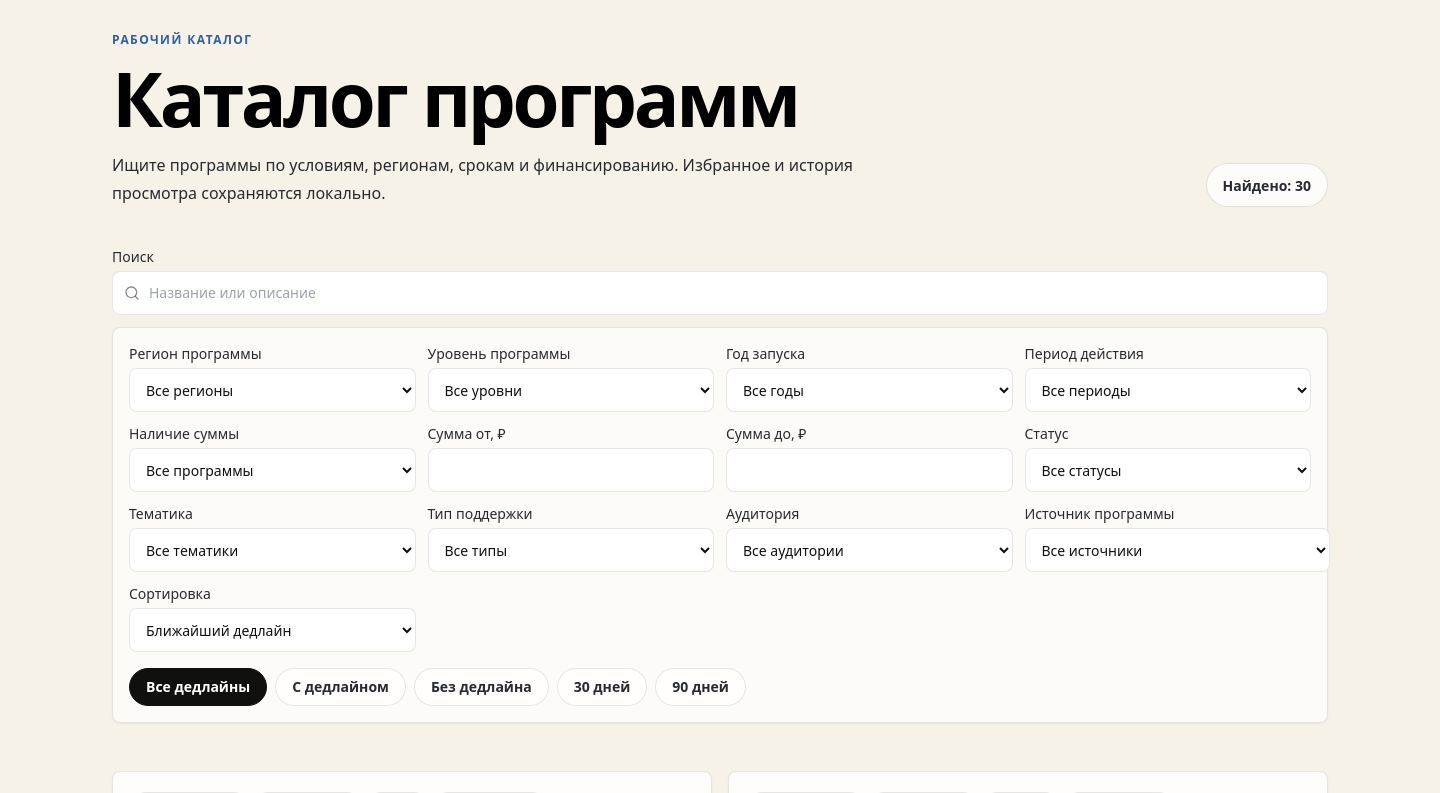
Test: ProgramsTab › shows empty state after filters with no results
This screenshot has width=1440, height=793.
Type "несуществующая программа" into the field labelled "Поиск". click: [720, 294]
box: x1=112 y1=272 x2=1328 y2=316
(page scrolled)
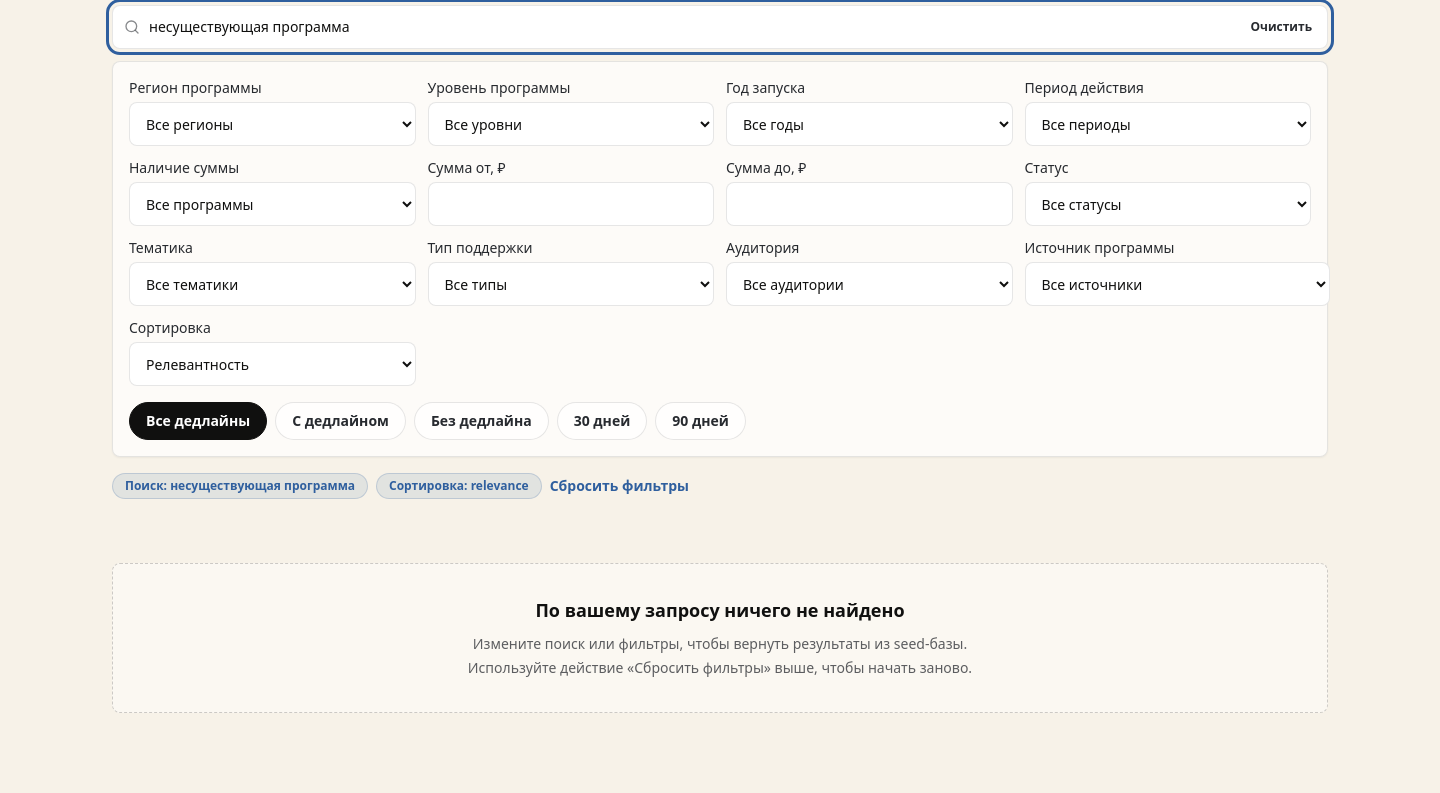
Expected: the text "По вашему запросу ничего не найдено" is shown, x1=535 y1=598 x2=904 y2=622
